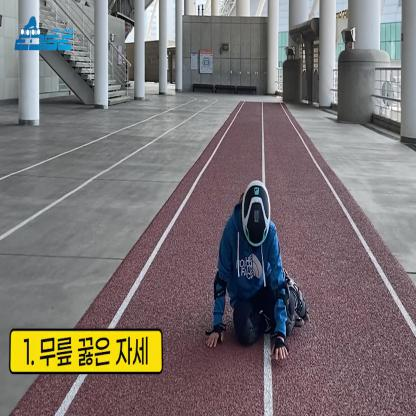Fall_Down: (207, 179, 309, 366)
